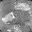people: (2, 11, 16, 24)
